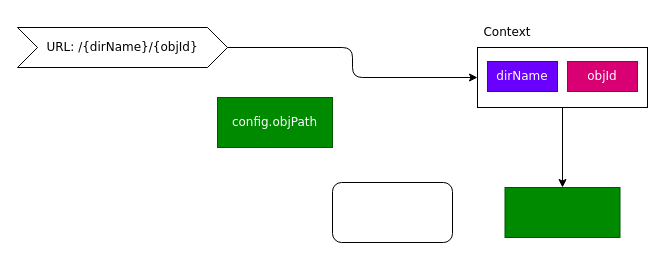
Some shapes in this 665 by 260 pixel diagram are drawn without their labels. The shapes that lost their labels are listed below. From the top down, each one's centre as x and y in pixels, then its label:
At pixel 392 212: "model".
At pixel 562 212: "config.views".
